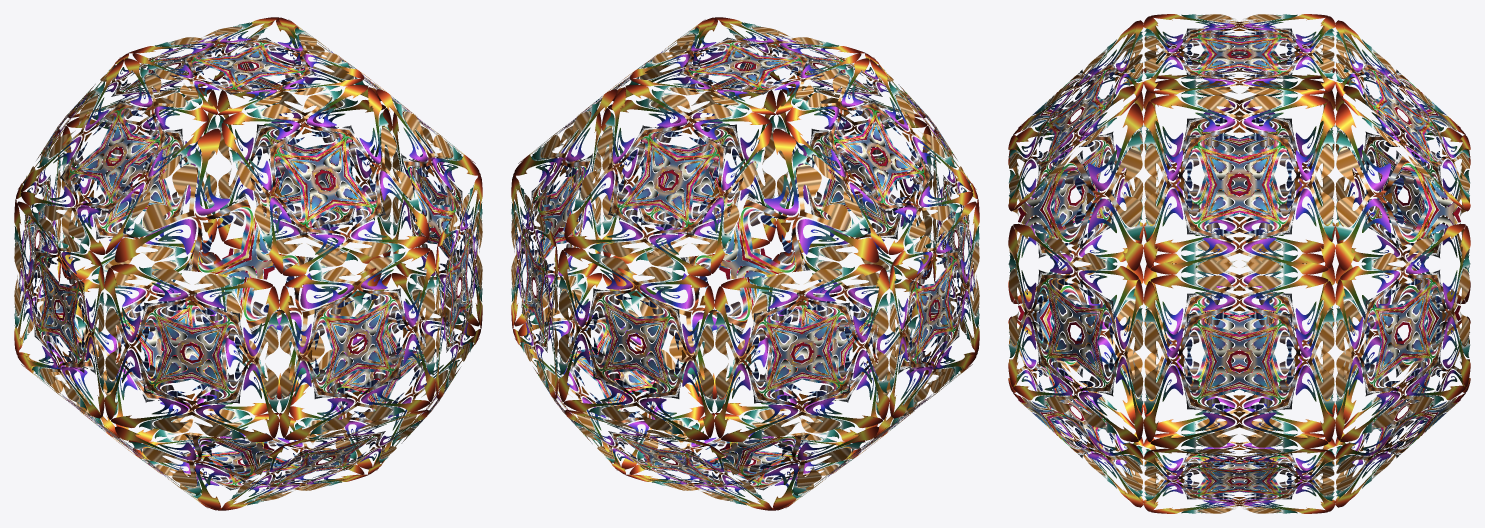
Rendered from Rhombicuboctahedron12.gltf.
3 renders of one model, left to right at view 1: azimuth 30°, elevation 25°; view 2: azimuth 150°, elevation 25°; view 3: azimuth 270°, elevation 25°, orthographic. The views are drawn at different scales.
Parts seen in each view (by area): view 1: Rhombicuboctahedron12; view 2: Rhombicuboctahedron12; view 3: Rhombicuboctahedron12.
Part boxes in pixels (box(x1,y1,x2,y2)): Rhombicuboctahedron12: box(14, 17, 482, 510); Rhombicuboctahedron12: box(511, 17, 979, 510); Rhombicuboctahedron12: box(1008, 14, 1470, 513).
Size of the model in its own units: 2.41 by 2.41 by 2.41.
1 material, 1 textured.
